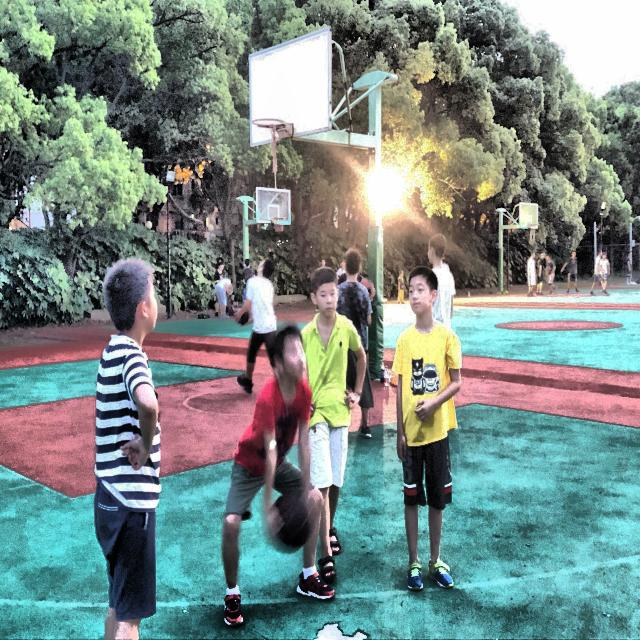board: (266, 490, 316, 550)
